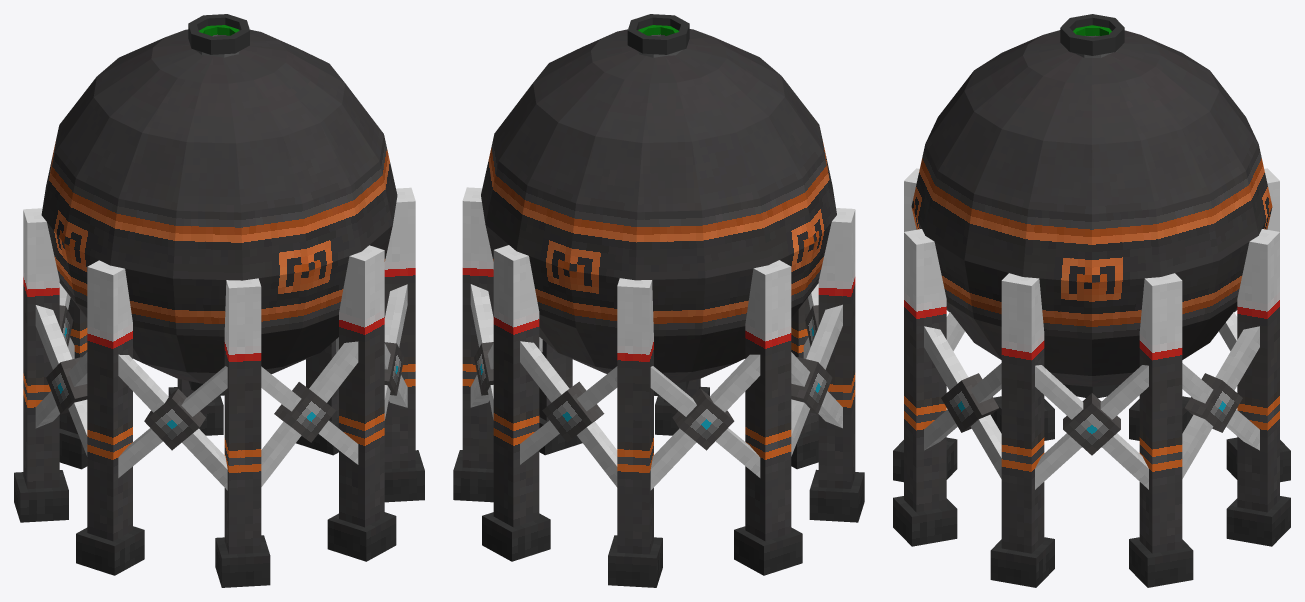
The model's file is spherical_tank.obj.
3 views of the same model, side by side, from view 1: azimuth 30°, elevation 25°; view 2: azimuth 150°, elevation 25°; view 3: azimuth 270°, elevation 25° (orthographic).
Visible parts, largest first — view 1: 球体, cube.073, cube.063, cube.068, cube.078, cube.058, cube, cube.061, cube.065, cube.062, cube.072, cube.067 (+14 smaller); view 2: 球体, cube.078, cube.048, cube.000, cube.073, cube.053, cube, cube.002, cube.076, cube.047, cube.077, cube.072 (+14 smaller); view 3: 球体, cube.053, cube.058, cube.048, cube.063, cube, cube.046, cube.055, cube.050, cube.051, cube.052, cube.057 (+12 smaller).
Part boxes in pixels (x1,y1,x2,y2): 球体: (41,29,397,383); cube.073: (87,260,132,541); cube.063: (339,245,384,527); cube.068: (224,278,261,554); cube.078: (23,208,59,489); cube.058: (384,187,415,469); cube: (59,14,249,469); cube.061: (261,341,358,486); cube.065: (118,354,227,490); cube.062: (327,512,396,561); cube.072: (76,526,144,575); cube.067: (215,535,270,587); 球体: (481,29,836,383); cube.078: (745,260,791,541); cube.048: (493,245,539,527); cube.000: (617,278,653,554); cube.073: (818,208,855,488); cube.053: (462,187,493,469); cube: (608,14,689,587); cube.002: (520,341,617,487); cube.076: (650,354,760,490); cube.047: (482,512,550,561); cube.077: (734,526,802,575); cube.072: (809,469,864,522); 球体: (911,30,1272,386); cube.053: (1139,273,1182,553); cube.058: (1001,273,1044,553); cube.048: (1237,229,1279,512); cube.063: (904,229,946,512); cube: (1060,14,1290,482); cube.046: (1182,326,1259,478); cube.055: (924,326,1001,478); cube.050: (1035,365,1148,489); cube.051: (1035,365,1148,489); cube.052: (1129,537,1193,587); cube.057: (990,537,1054,587).
Bounding box in the file's own units: 3.03 × 4 × 3.03.
